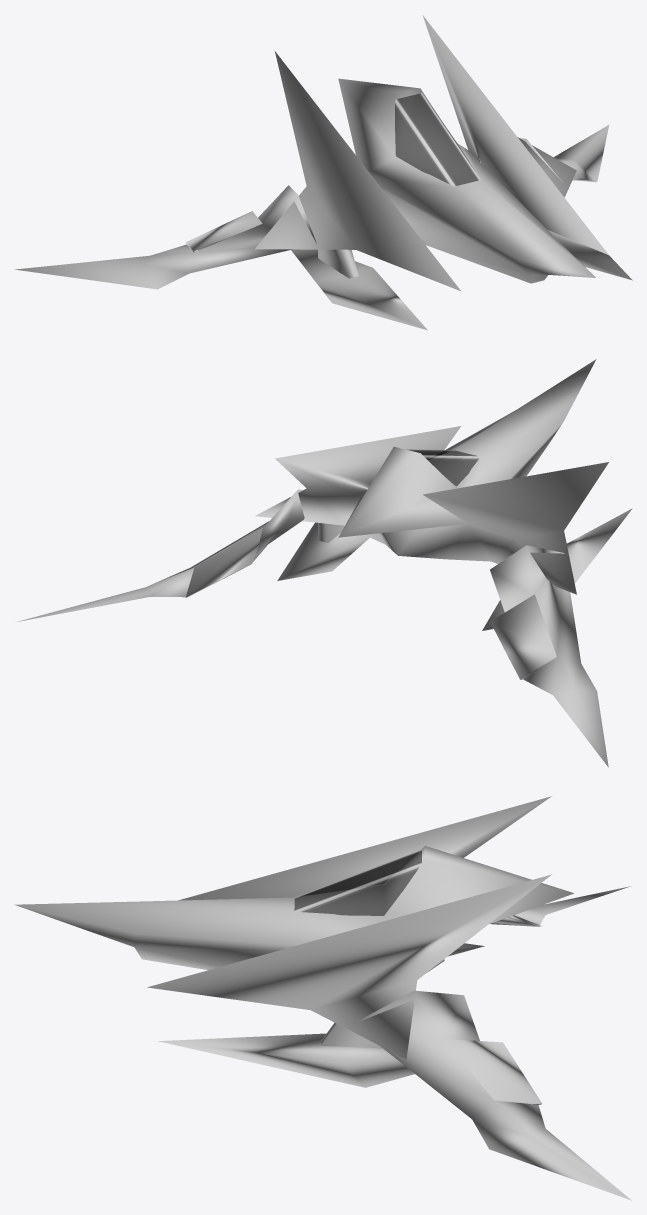
File: arwingNew74.obj
3 renders of one model, top to bottom at view 1: azimuth 30°, elevation 25°; view 2: azimuth 150°, elevation 25°; view 3: azimuth 270°, elevation 25°, orthographic. The views are drawn at different scales.
Visible parts, largest first — view 1: Arwing.002; view 2: Arwing.002; view 3: Arwing.002.
Boxes of the visible parts, left/top/right/bottom form: Arwing.002: left=15, top=15, right=632, bottom=330; Arwing.002: left=17, top=359, right=632, bottom=767; Arwing.002: left=14, top=796, right=631, bottom=1200.
Size of the model in its own units: 6.98 by 2.15 by 5.79.
